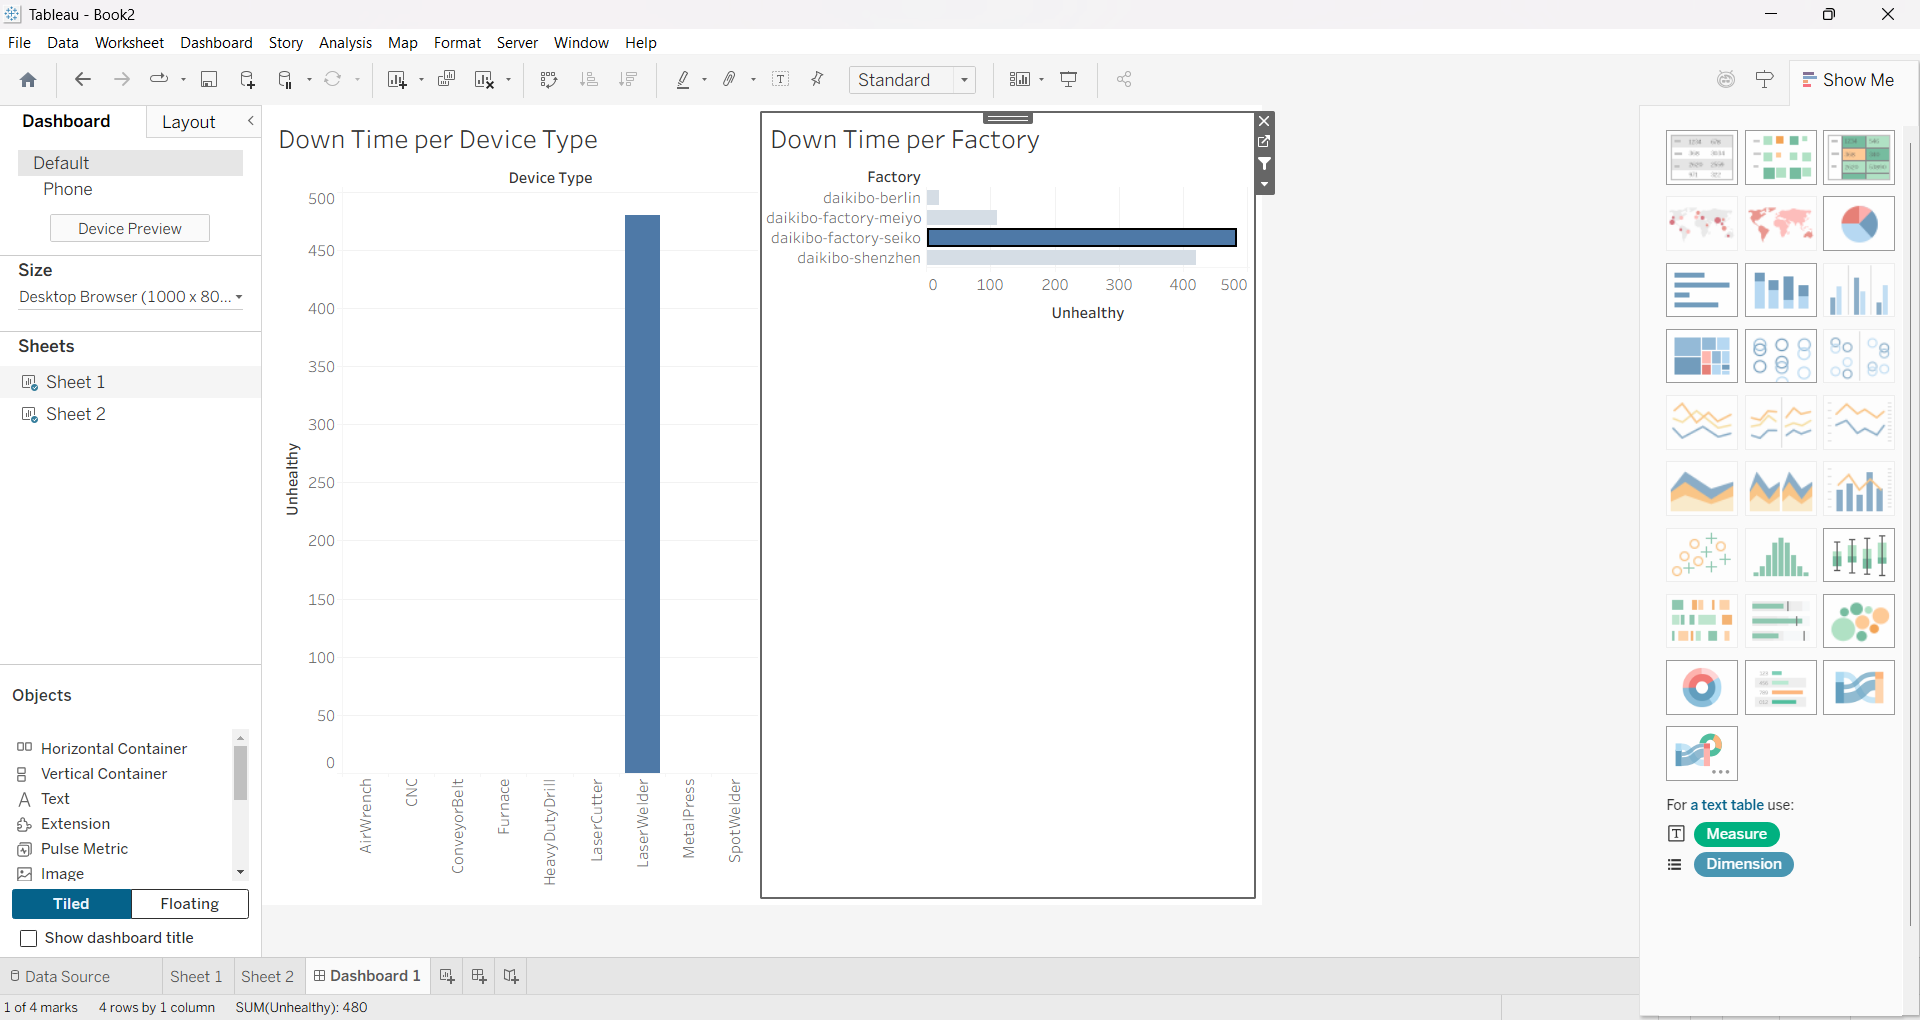

This screenshot's page, from the dashboard's own definition file:
{"tool":"tableau","page":{"name":"Dashboard 1","canvas":[1000,800],"ordinal":0},"visuals":[{"type":"worksheet","title":"Sheet 2","mark":"Automatic","rows":["Calculation_1477207129653248"],"cols":["deviceType"],"box":[8,8,492,784]},{"type":"worksheet","title":"Sheet 1","mark":"Automatic","rows":["factory"],"cols":["Calculation_1477207129653248"],"box":[500,8,492,784]}]}

Visuals, with their boxes on the page's 1000x800 design canvas (x1, y1, x2, y2). These are canvas units, not pixel positions in the 1920x1020 screenshot, which may show the page scaled, cropped or inside an application window:
"Sheet 2" worksheet: <bbox>8, 8, 500, 792</bbox>
"Sheet 1" worksheet: <bbox>500, 8, 992, 792</bbox>
